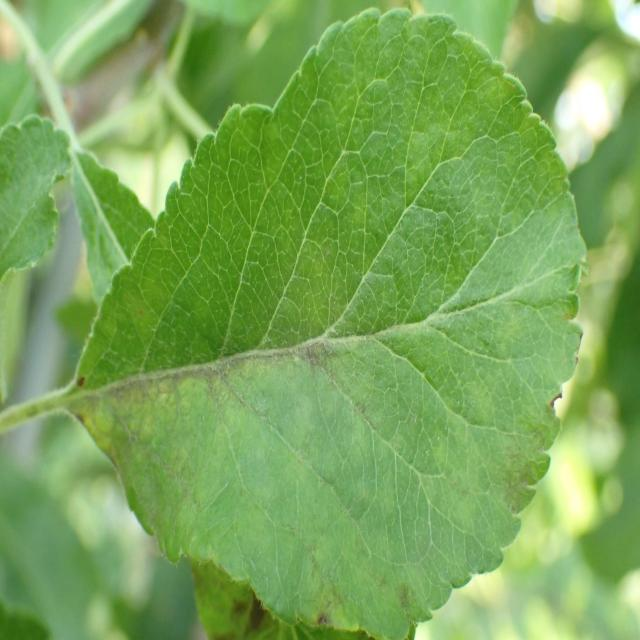scab: (56, 318, 416, 489), (238, 492, 470, 640), (492, 372, 584, 546)
